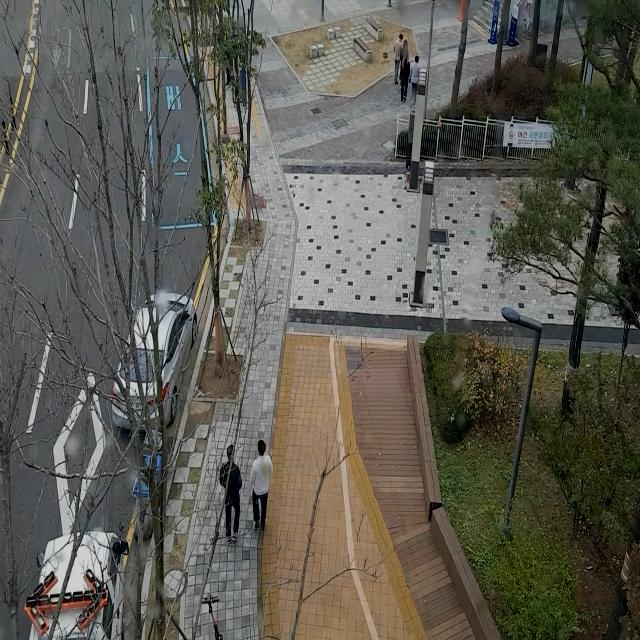Car: (96, 252, 222, 444)
Truck: (23, 498, 131, 640)
